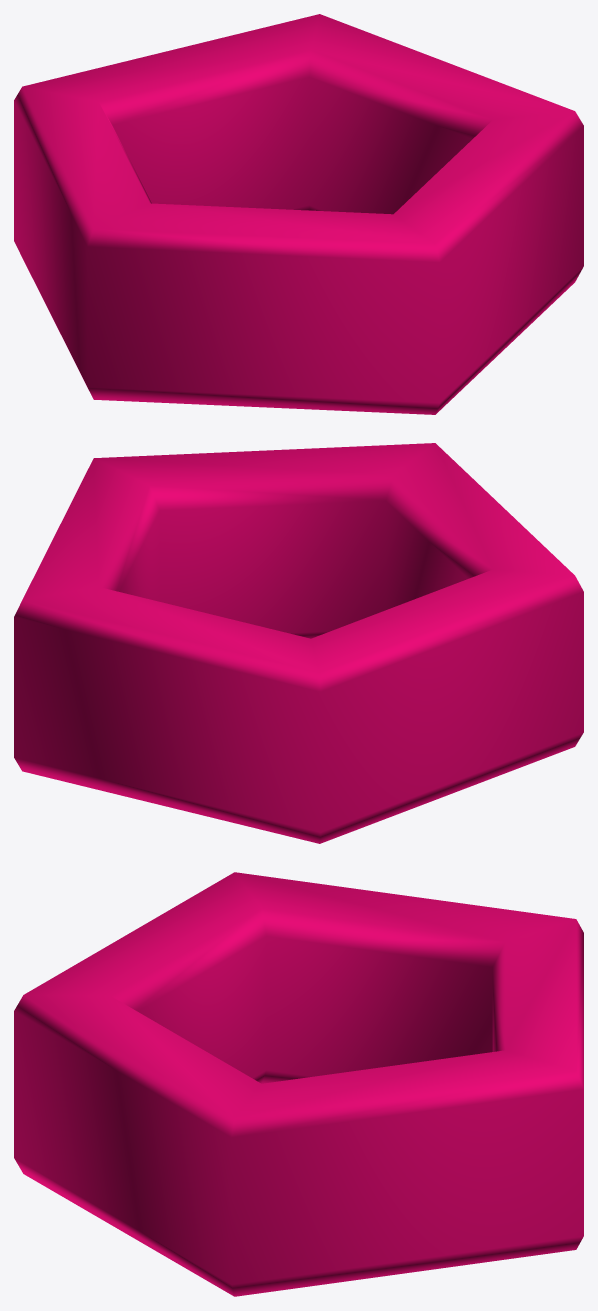
File: Tire_01_Lod2.fbx
The picture shows the model from 3 angles, top to bottom: view 1: azimuth 30°, elevation 25°; view 2: azimuth 150°, elevation 25°; view 3: azimuth 270°, elevation 25°; orthographic projection. The views are drawn at different scales.
Visible parts, largest first — view 1: Tire_01_Lod2; view 2: Tire_01_Lod2; view 3: Tire_01_Lod2.
Boxes of the visible parts, x1,y1,x2,y2 form: Tire_01_Lod2: [14, 14, 583, 414]; Tire_01_Lod2: [14, 443, 583, 843]; Tire_01_Lod2: [14, 872, 583, 1296].
Size of the model in its own units: 73.63 by 24.26 by 70.03.
